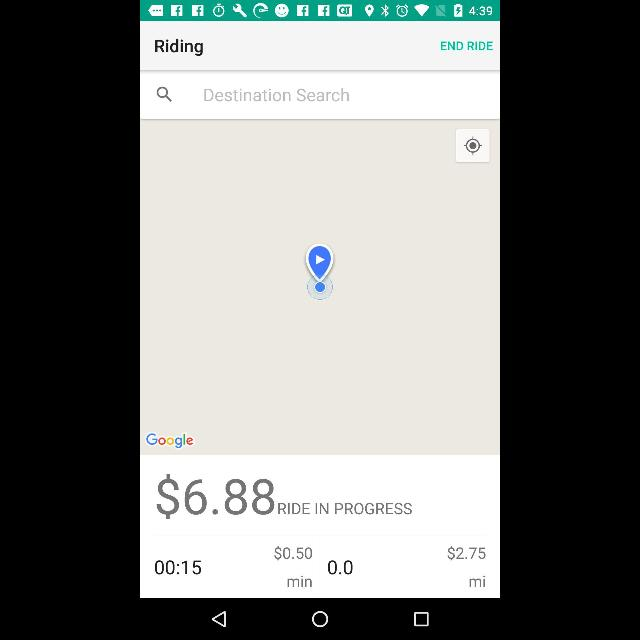icon: (464, 138, 482, 156), (312, 610, 328, 628), (212, 610, 226, 628), (158, 86, 172, 102), (414, 612, 428, 626)
input: (140, 70, 500, 120)
map: (140, 120, 500, 454)
panel: (140, 598, 500, 640)
text: (158, 474, 274, 520), (205, 88, 349, 102), (278, 504, 412, 514), (155, 40, 203, 56), (155, 560, 201, 574), (448, 546, 486, 560), (276, 546, 312, 560), (441, 41, 493, 50), (328, 561, 352, 575), (288, 576, 312, 588), (469, 575, 485, 587)
uppertaskbar: (140, 0, 500, 20)
